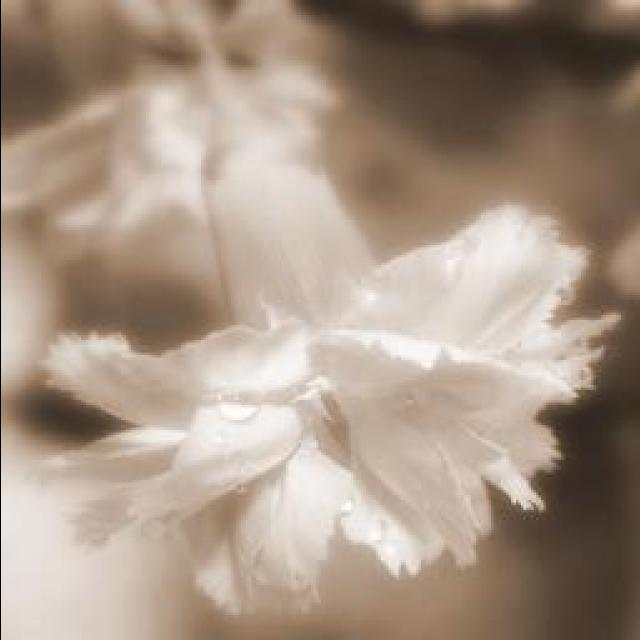carnation: (49, 185, 624, 633)
